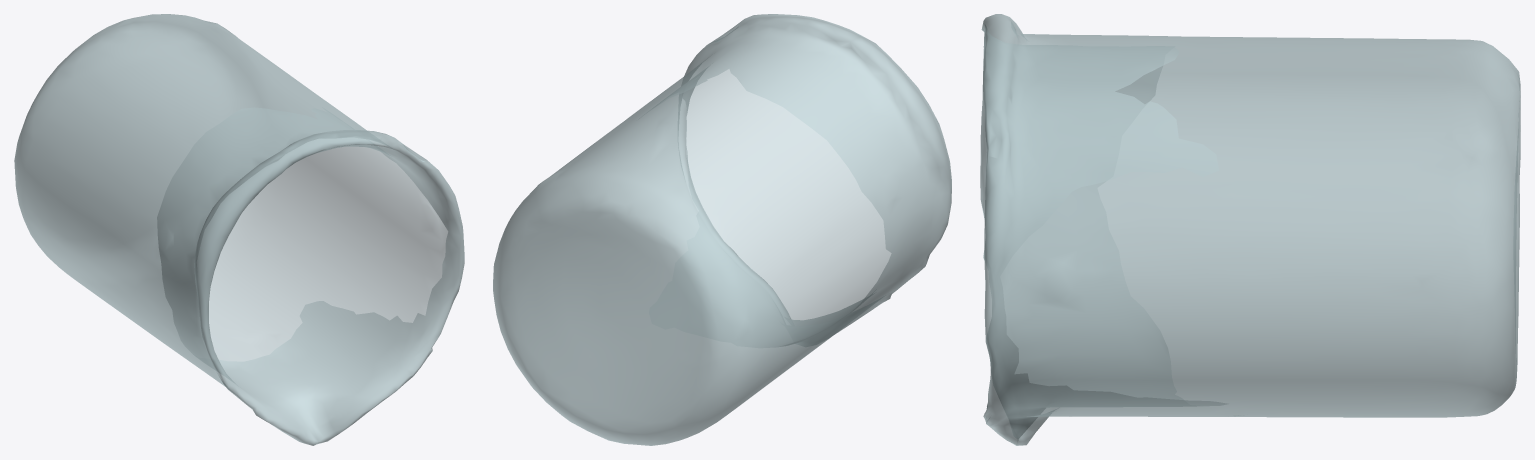
3 views of the same model, side by side, from view 1: azimuth 30°, elevation 25°; view 2: azimuth 150°, elevation 25°; view 3: azimuth 270°, elevation 25° (orthographic). The views are drawn at different scales.
Parts seen in each view (by area): view 1: scan.ply; view 2: scan.ply; view 3: scan.ply.
Part boxes in pixels (x1=…): scan.ply: x1=14, y1=14, x2=464, y2=445; scan.ply: x1=493, y1=14, x2=951, y2=445; scan.ply: x1=980, y1=14, x2=1520, y2=445.
Bounding box in the file's own units: 0.0738 × 0.0837 × 0.1.
